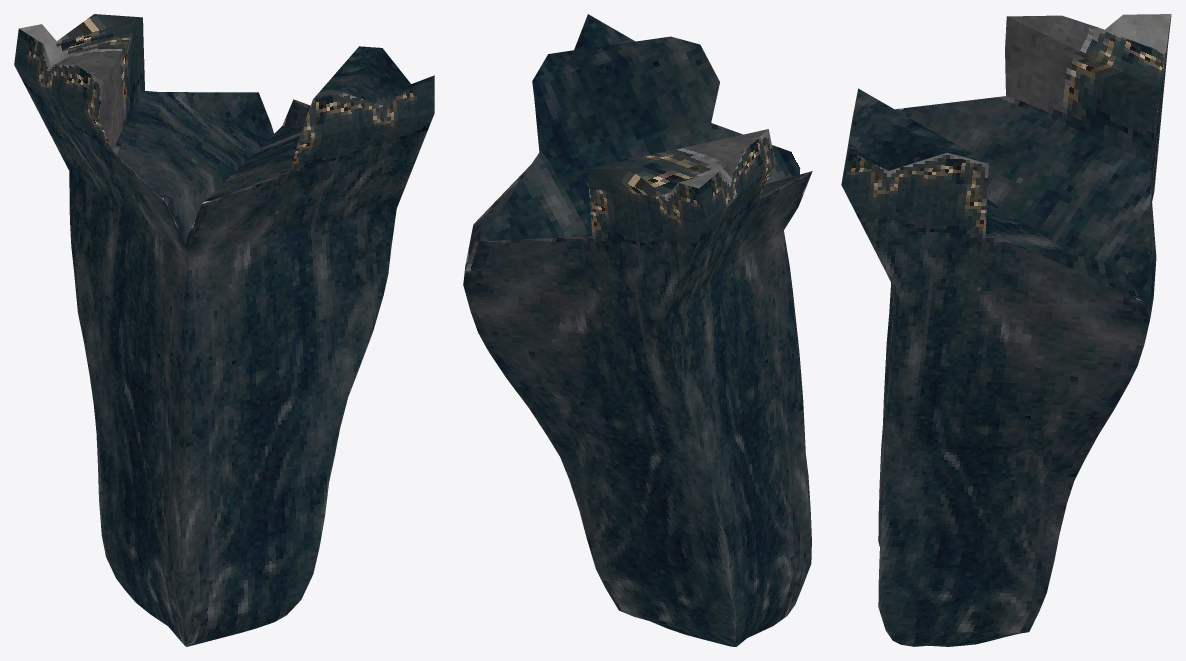
The picture shows the model from 3 angles, left to right: view 1: azimuth 30°, elevation 25°; view 2: azimuth 150°, elevation 25°; view 3: azimuth 270°, elevation 25°; orthographic projection. The views are drawn at different scales.
Visible parts, largest first — view 1: SPLICE_1; view 2: SPLICE_1; view 3: SPLICE_1.
Part boxes in pixels (bbox=[...]): SPLICE_1: bbox=[14, 14, 434, 646]; SPLICE_1: bbox=[463, 14, 812, 646]; SPLICE_1: bbox=[841, 14, 1171, 646].
Size of the model in its own units: 1.22 by 2.36 by 1.21.
1 material, 1 textured.
